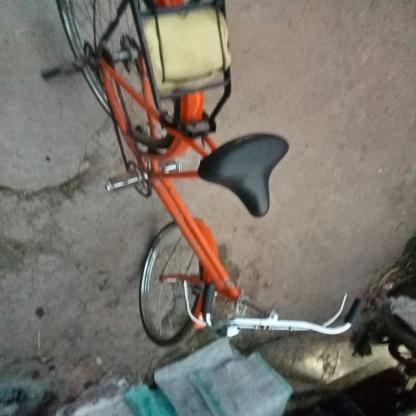bicycle: (28, 0, 376, 363)
